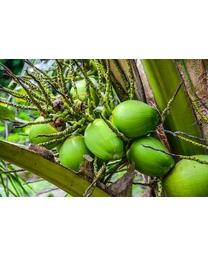coconut: (109, 100, 165, 140), (82, 117, 125, 162), (127, 137, 176, 176), (164, 158, 207, 197), (57, 132, 94, 175)
